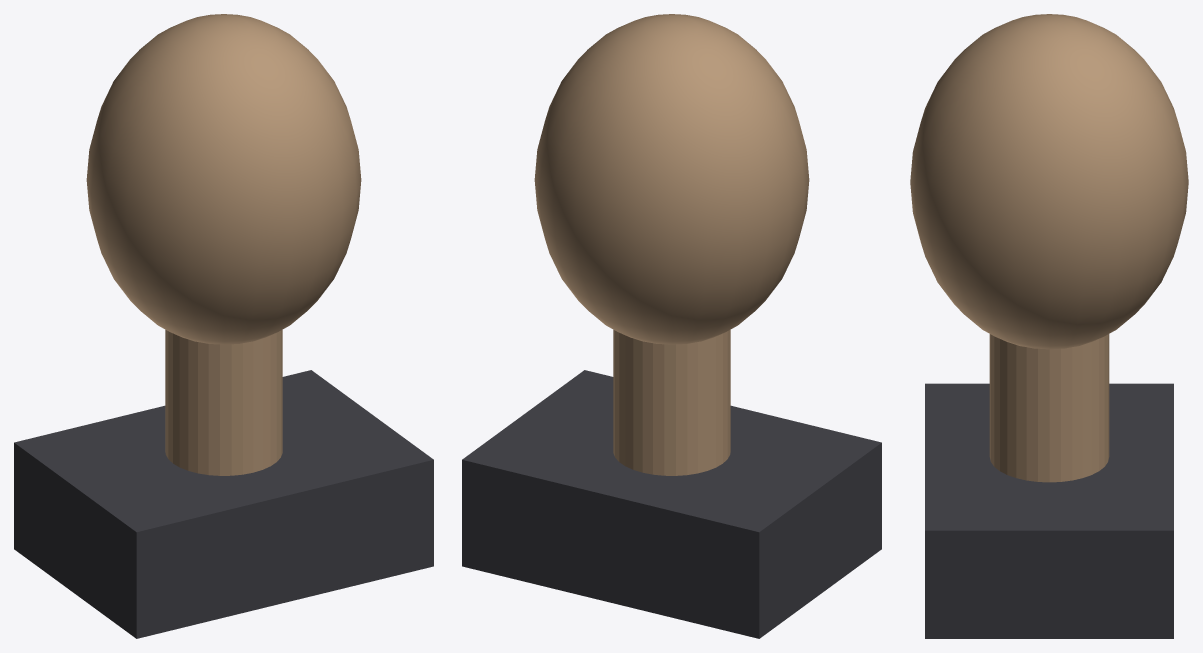
File: stamp.glb
3 renders of one model, left to right at view 1: azimuth 30°, elevation 25°; view 2: azimuth 150°, elevation 25°; view 3: azimuth 270°, elevation 25°, orthographic.
Parts seen in each view (by area): view 1: stamp_base, stamp_handle, stamp_neck; view 2: stamp_base, stamp_handle, stamp_neck; view 3: stamp_handle, stamp_base, stamp_neck.
Part boxes in pixels (x1,y1,x2,y2): stamp_base: (14, 370, 433, 638); stamp_handle: (86, 14, 361, 344); stamp_neck: (165, 329, 282, 475); stamp_base: (462, 370, 881, 638); stamp_handle: (534, 14, 809, 344); stamp_neck: (613, 329, 730, 475); stamp_handle: (910, 14, 1188, 349); stamp_base: (925, 383, 1173, 638); stamp_neck: (989, 334, 1109, 482).
Size of the model in its own units: 0.07 by 0.12 by 0.056.
